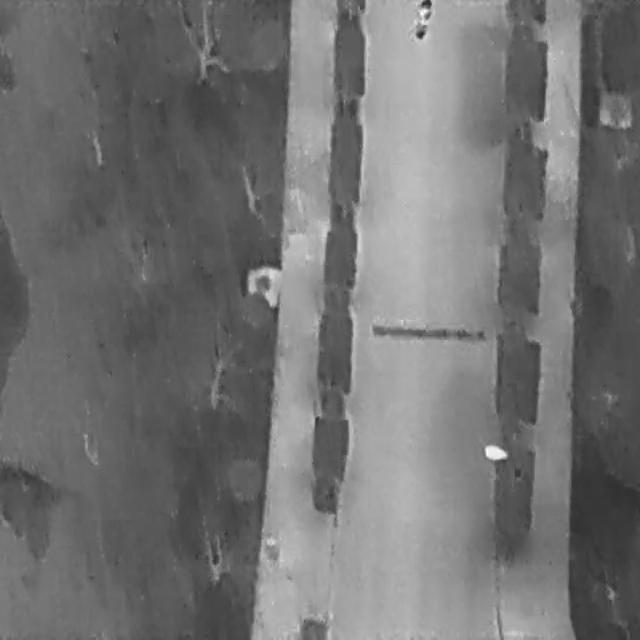Bicycle: (409, 0, 433, 41)
